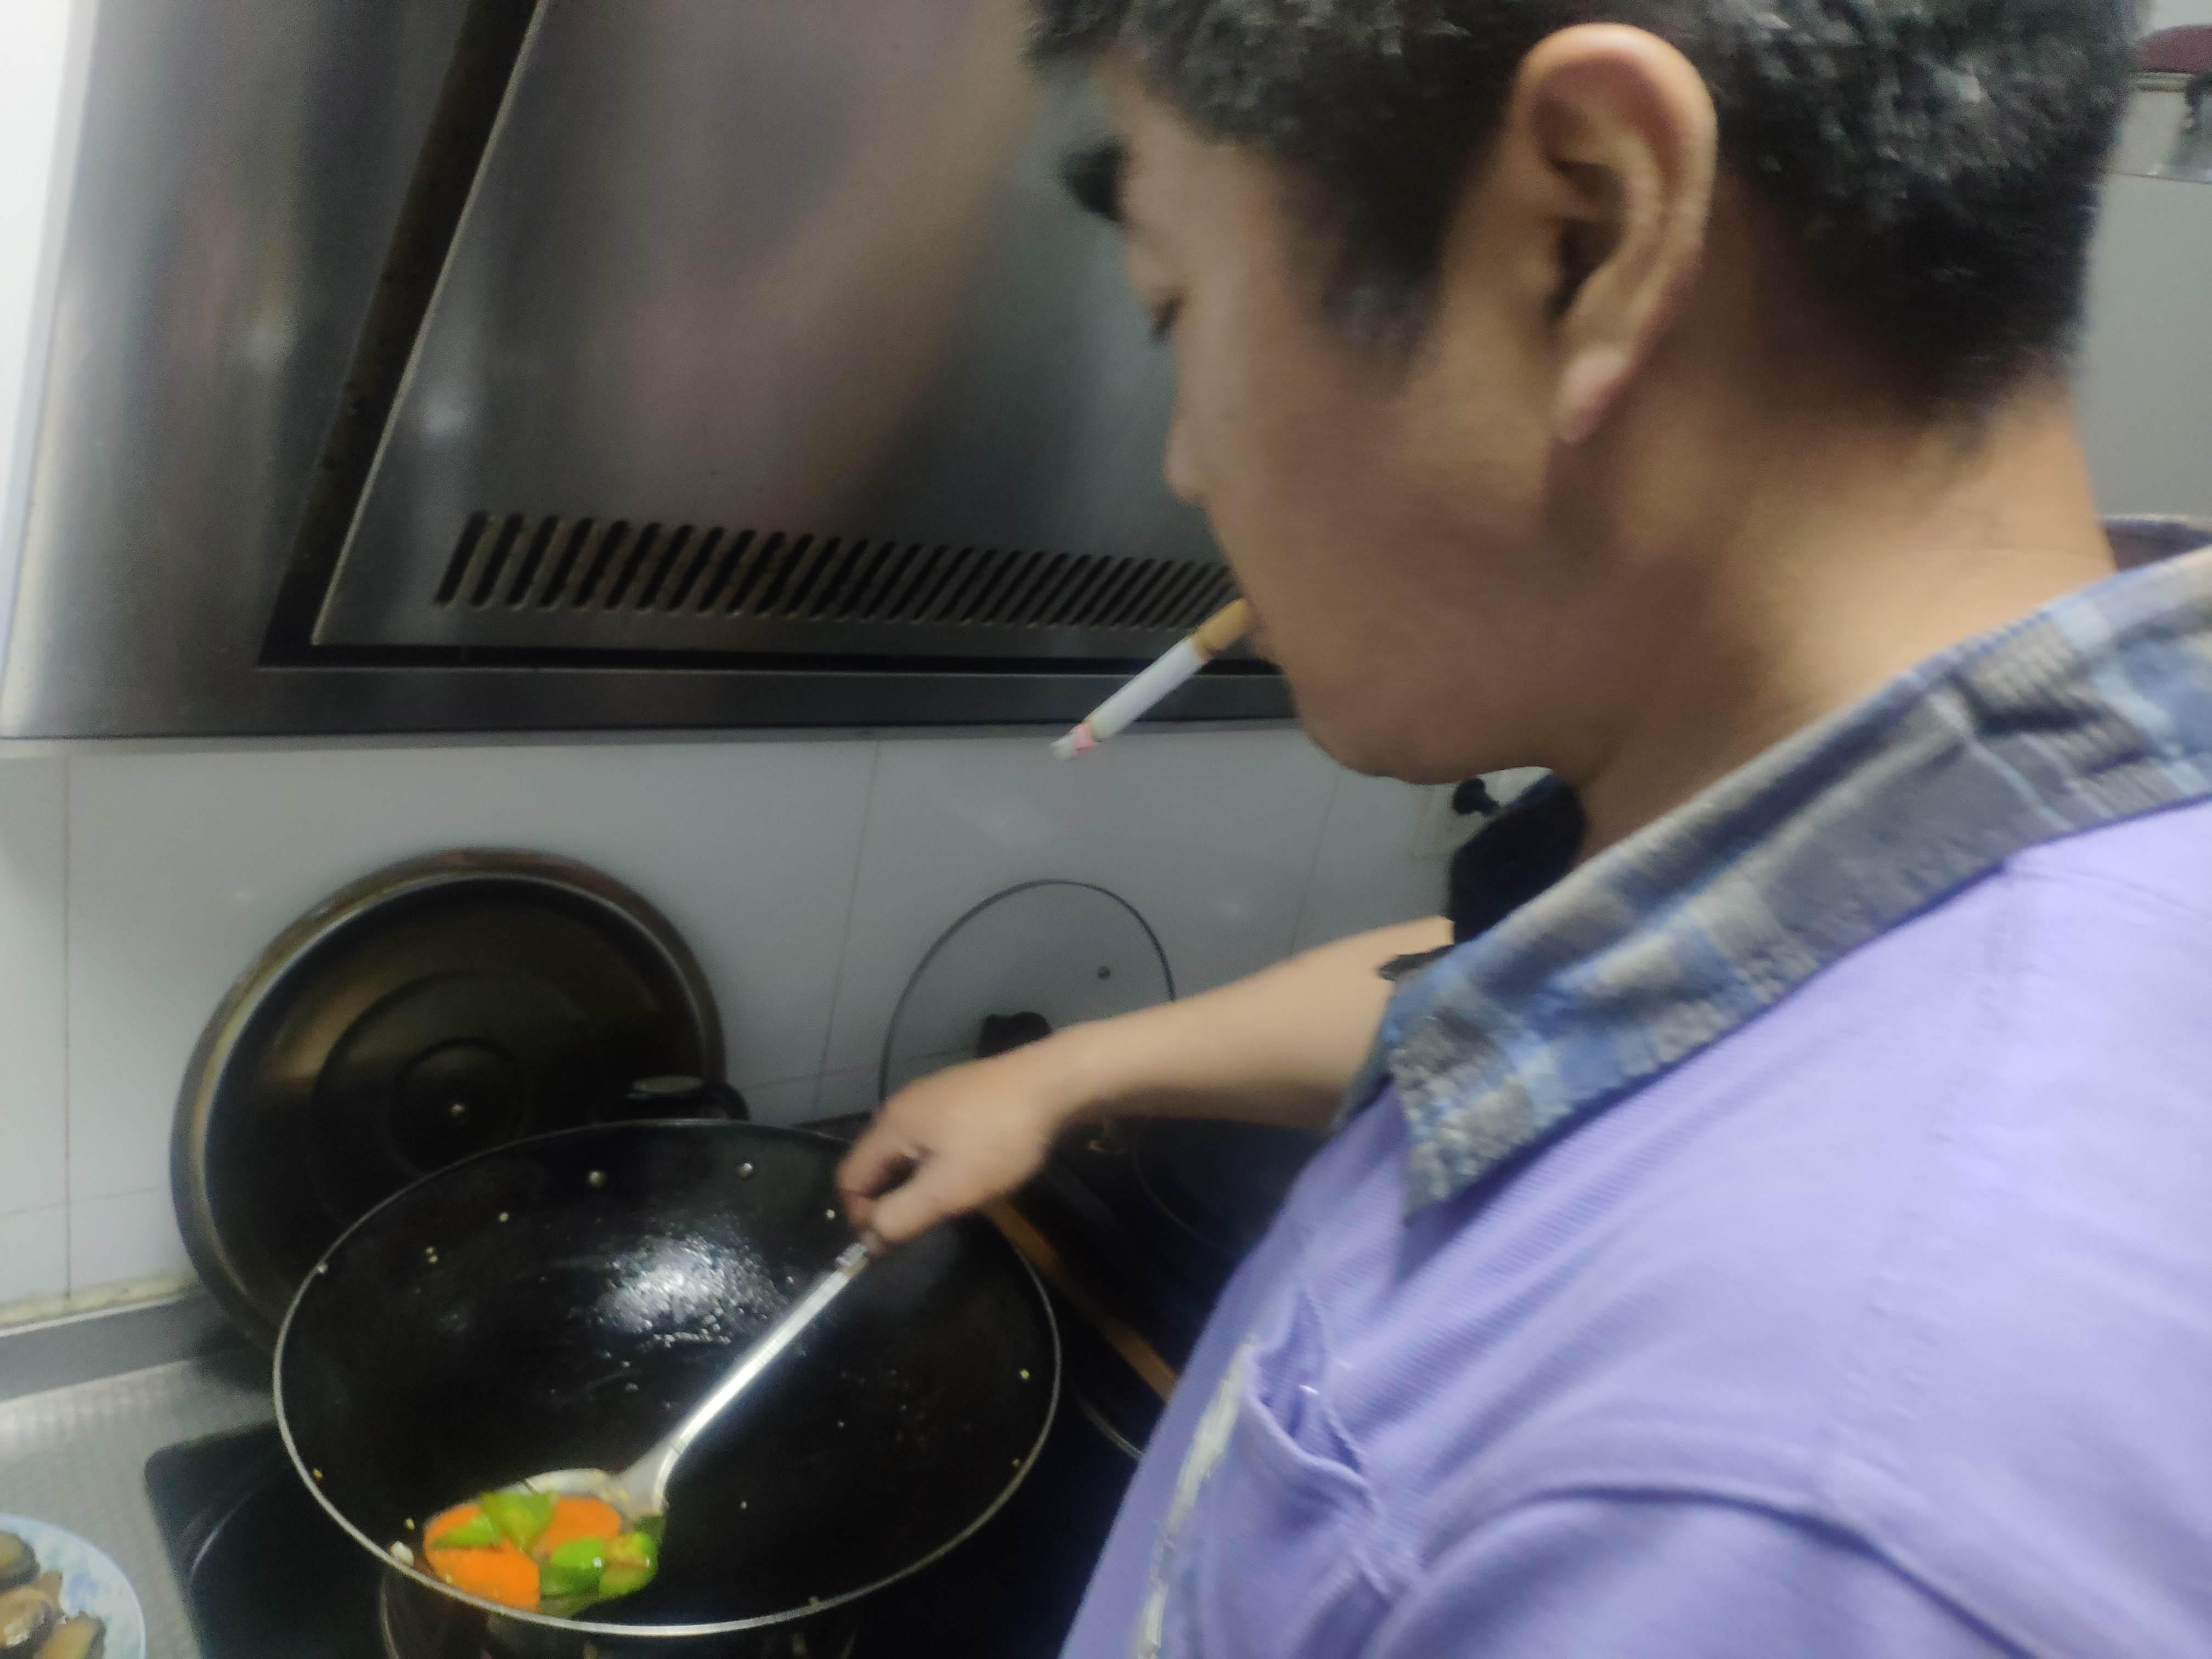smoke: (1052, 596, 1263, 769)
